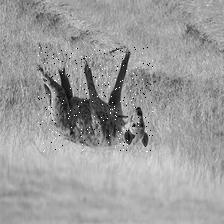hyena: (37, 46, 152, 151)
